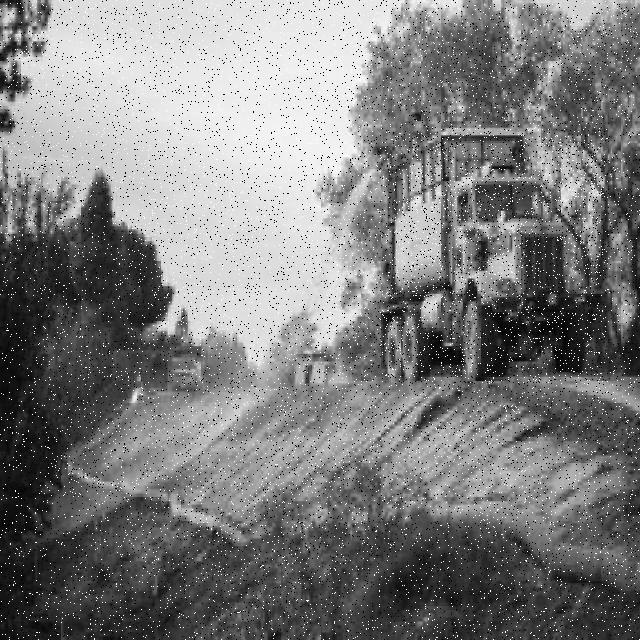Truck- Multi-Axle: (380, 129, 605, 383)
